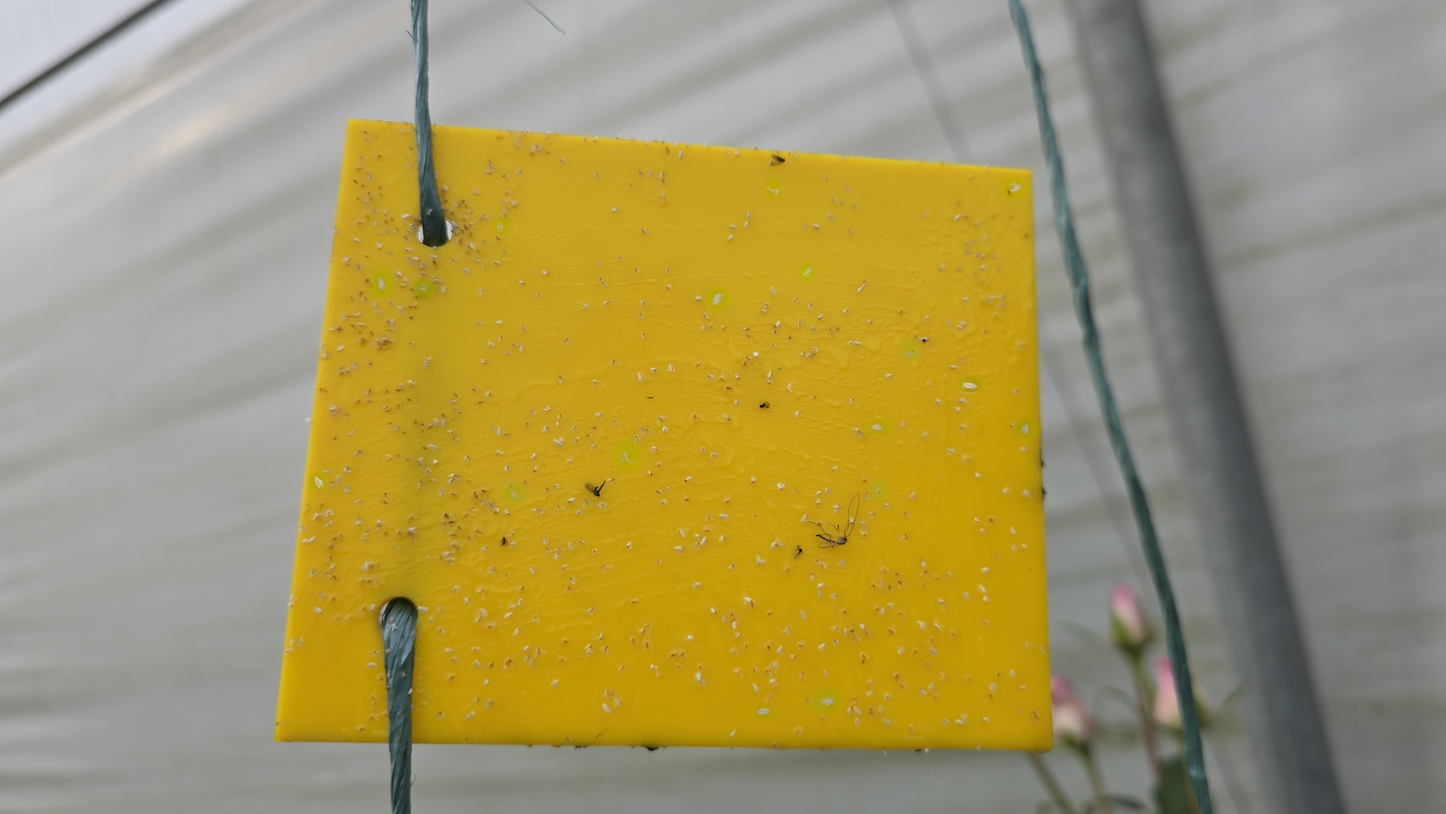WF: (616, 443, 638, 469), (372, 271, 392, 296), (814, 691, 838, 711), (708, 288, 727, 309), (1004, 179, 1025, 197), (504, 485, 523, 502), (1016, 421, 1037, 436), (868, 420, 889, 434), (415, 280, 433, 296), (902, 342, 918, 359), (310, 473, 327, 489), (960, 378, 979, 391), (766, 180, 779, 197), (800, 264, 814, 279), (756, 705, 771, 719), (871, 482, 884, 498), (696, 672, 707, 686), (755, 555, 768, 566), (771, 539, 784, 550), (494, 220, 507, 231), (479, 607, 491, 618), (1022, 489, 1034, 500), (978, 584, 989, 595), (717, 512, 730, 521), (602, 703, 612, 714), (742, 596, 753, 606), (917, 688, 928, 698), (917, 620, 928, 630), (417, 605, 429, 614), (886, 601, 898, 610), (775, 483, 787, 492), (342, 255, 352, 265), (678, 529, 688, 539), (782, 626, 792, 636), (553, 439, 564, 448), (325, 508, 335, 517), (820, 561, 829, 571), (408, 526, 419, 534), (503, 612, 514, 620), (770, 286, 778, 297), (1003, 486, 1011, 497), (399, 214, 413, 220), (639, 425, 646, 437), (1021, 540, 1028, 552), (371, 301, 380, 310), (462, 267, 471, 276), (883, 693, 892, 702), (432, 458, 441, 467), (829, 464, 838, 473), (513, 627, 521, 637), (473, 189, 483, 197), (692, 581, 702, 589), (800, 610, 808, 620), (776, 645, 784, 655), (753, 683, 761, 693), (817, 644, 827, 652), (883, 717, 893, 725), (786, 384, 794, 394), (981, 716, 991, 724), (981, 566, 991, 574), (1008, 526, 1016, 536), (921, 432, 931, 440), (433, 278, 444, 285), (728, 225, 739, 232), (701, 536, 708, 547), (945, 447, 956, 454), (955, 325, 966, 332), (354, 237, 363, 245), (357, 322, 369, 328), (440, 287, 449, 295), (351, 361, 359, 370), (312, 513, 321, 521), (315, 607, 323, 616), (599, 502, 608, 510), (587, 607, 595, 616), (559, 158, 568, 166), (710, 607, 718, 616), (771, 662, 780, 670), (860, 530, 868, 539), (801, 514, 809, 523), (645, 427, 654, 435), (774, 320, 783, 328), (710, 452, 719, 460), (982, 595, 990, 604), (949, 364, 961, 370), (812, 223, 821, 231), (810, 324, 818, 333), (723, 413, 731, 422), (955, 718, 964, 726), (408, 380, 418, 387), (867, 510, 877, 517), (706, 374, 716, 381), (637, 372, 643, 383), (566, 498, 577, 504), (394, 425, 402, 433), (335, 475, 343, 483), (603, 300, 611, 308), (668, 364, 676, 372), (474, 660, 482, 668), (482, 213, 490, 221), (447, 557, 455, 565), (474, 616, 482, 624), (854, 707, 862, 715), (898, 647, 906, 655), (633, 435, 641, 443), (954, 214, 962, 222), (857, 286, 865, 294), (337, 346, 346, 353), (495, 319, 504, 326), (494, 260, 503, 267), (329, 405, 338, 412), (595, 411, 604, 418), (496, 450, 505, 457), (502, 465, 511, 472), (553, 484, 562, 491), (568, 543, 575, 552), (651, 664, 660, 671), (452, 585, 461, 592), (768, 678, 777, 685), (854, 717, 861, 726), (831, 625, 840, 632), (727, 235, 736, 242), (752, 352, 761, 359), (766, 371, 773, 380), (1009, 544, 1018, 551), (684, 495, 691, 504), (425, 466, 432, 475), (543, 536, 549, 546), (732, 620, 738, 630), (832, 504, 842, 510), (376, 243, 384, 250), (430, 254, 438, 261), (434, 418, 441, 426), (488, 341, 496, 348), (582, 303, 589, 311), (530, 454, 538, 461), (570, 425, 578, 432), (585, 499, 592, 507), (570, 577, 577, 585), (585, 645, 593, 652), (551, 680, 559, 687), (542, 269, 549, 277), (512, 200, 519, 208), (660, 170, 667, 178), (531, 145, 539, 152), (822, 669, 829, 677), (942, 718, 950, 725), (695, 295, 703, 302), (762, 302, 770, 309), (734, 373, 741, 381), (685, 476, 693, 483), (750, 477, 758, 484), (931, 648, 938, 656), (939, 264, 946, 272), (658, 416, 666, 423), (405, 248, 416, 253), (395, 306, 404, 312), (429, 445, 438, 451), (517, 280, 526, 286), (556, 552, 562, 561), (530, 566, 536, 575), (678, 151, 684, 160), (721, 614, 727, 623), (865, 691, 874, 697), (810, 573, 816, 582), (921, 559, 927, 568), (816, 497, 822, 506), (962, 297, 971, 303), (979, 265, 988, 271), (854, 340, 863, 346), (674, 547, 684, 552), (469, 243, 476, 250), (309, 536, 316, 543), (480, 499, 487, 506), (446, 647, 453, 654), (860, 623, 867, 630), (744, 221, 751, 228), (734, 150, 741, 157), (648, 470, 655, 477), (975, 472, 982, 479), (847, 340, 854, 347), (573, 436, 580, 443), (484, 679, 491, 686), (413, 256, 421, 262), (376, 310, 384, 316), (328, 327, 336, 333), (611, 207, 619, 213), (543, 406, 551, 412), (650, 368, 658, 374), (532, 507, 540, 513), (510, 542, 518, 548), (562, 564, 570, 570), (627, 542, 633, 550), (450, 399, 458, 405), (604, 646, 610, 654), (686, 635, 694, 641), (733, 632, 741, 638), (817, 583, 825, 589), (928, 684, 936, 690), (937, 599, 945, 605), (859, 521, 867, 527), (910, 492, 916, 500), (733, 399, 741, 405), (959, 321, 967, 327), (983, 235, 989, 243), (974, 516, 980, 524), (843, 308, 851, 314), (387, 453, 393, 461), (463, 456, 471, 462), (812, 346, 820, 352), (497, 427, 502, 436), (396, 272, 403, 278), (356, 520, 363, 526), (486, 169, 493, 175), (652, 446, 658, 453), (482, 546, 488, 553), (524, 645, 531, 651), (599, 634, 605, 641), (675, 141, 682, 147), (504, 509, 510, 516), (530, 660, 536, 667), (790, 654, 796, 661), (761, 309, 768, 315), (795, 410, 801, 417), (661, 500, 668, 506), (935, 399, 942, 405), (981, 254, 988, 260), (886, 372, 893, 378), (959, 397, 966, 403), (586, 434, 593, 440), (592, 380, 599, 386), (343, 314, 348, 322), (345, 485, 350, 493), (560, 436, 565, 444), (543, 425, 548, 433), (847, 706, 852, 714), (878, 708, 886, 713), (843, 627, 848, 635), (798, 318, 803, 326), (655, 490, 663, 495), (382, 404, 388, 410), (591, 444, 597, 450), (557, 422, 563, 428), (663, 427, 669, 433), (442, 552, 451, 556), (464, 597, 470, 603), (524, 655, 530, 661), (816, 491, 822, 497), (746, 212, 752, 218), (720, 535, 726, 541), (817, 315, 823, 321), (955, 406, 961, 412), (664, 486, 670, 492), (640, 300, 646, 306), (356, 313, 363, 318), (447, 429, 454, 434), (519, 345, 524, 352), (557, 413, 562, 420), (590, 425, 597, 430), (356, 499, 363, 504), (390, 320, 396, 325), (344, 466, 349, 472), (441, 420, 446, 426), (454, 437, 460, 442), (499, 336, 504, 342), (487, 391, 492, 397), (567, 459, 573, 464), (456, 476, 461, 482), (448, 478, 453, 484), (518, 600, 523, 606), (979, 527, 985, 532), (854, 428, 860, 433), (800, 351, 805, 357), (579, 541, 586, 545), (303, 539, 308, 544), (959, 424, 964, 429), (495, 509, 501, 513), (850, 519, 854, 525), (695, 535, 701, 539), (449, 474, 456, 477), (807, 351, 810, 358), (346, 471, 351, 475), (535, 293, 540, 297), (867, 321, 872, 325), (808, 303, 812, 308), (432, 276, 438, 279), (577, 510, 580, 515), (580, 510, 583, 514)
